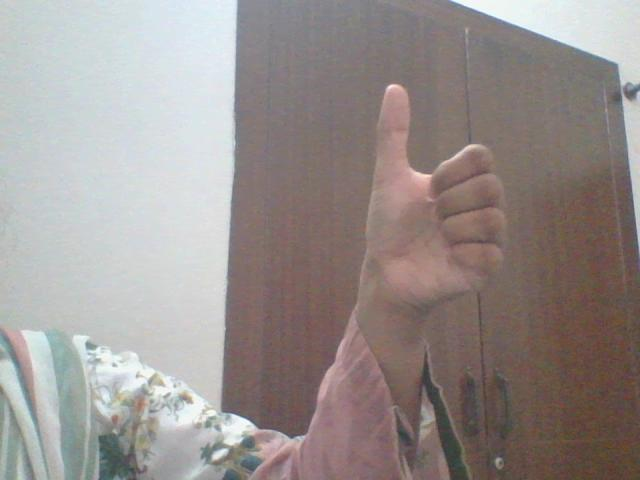thumbs-up: (353, 74, 513, 307)
